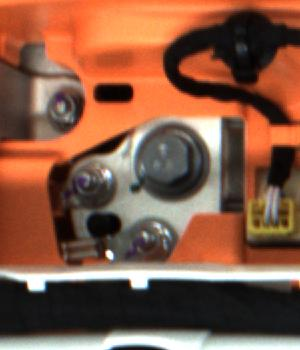nut_b: (132, 120, 218, 202)
screw_s: (127, 223, 187, 264), (70, 166, 113, 211), (43, 90, 80, 128)
